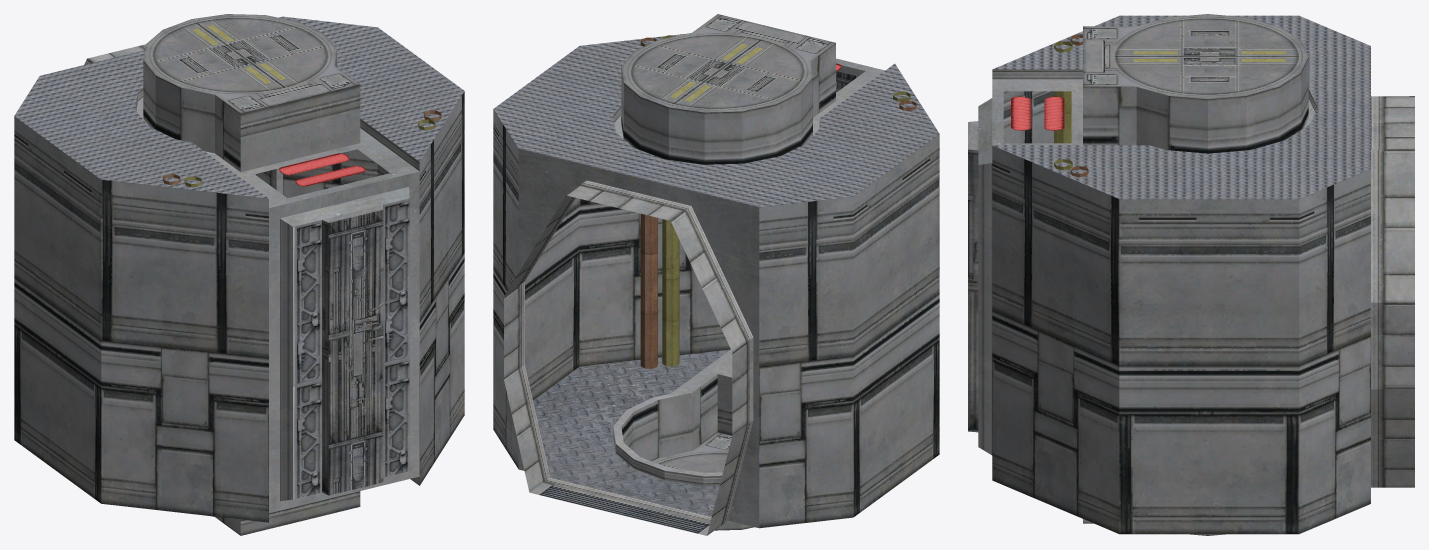
Rendered from ykl37r_r10_turretaccess_mesh.fbx.
3 renders of one model, left to right at view 1: azimuth 30°, elevation 25°; view 2: azimuth 150°, elevation 25°; view 3: azimuth 270°, elevation 25°, orthographic. The views are drawn at different scales.
Parts seen in each view (by area): view 1: mesh_node; view 2: mesh_node; view 3: mesh_node.
Boxes of the visible parts, left/top/right/bottom form: mesh_node: left=14, top=14, right=464, bottom=535; mesh_node: left=493, top=14, right=939, bottom=535; mesh_node: left=968, top=14, right=1414, bottom=535.
Size of the model in its own units: 3.7 by 4.1 by 3.8.
